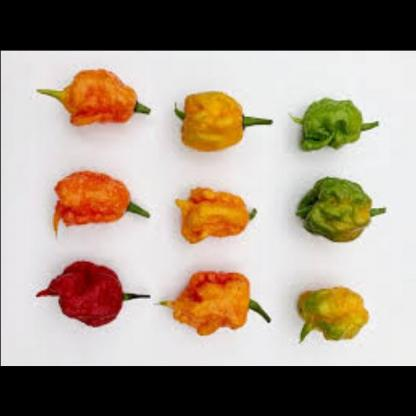hot pepper: (172, 66, 274, 161), (47, 56, 157, 140), (37, 260, 155, 338), (43, 162, 158, 242), (171, 266, 276, 339), (298, 171, 390, 249), (172, 174, 265, 242), (291, 274, 380, 344), (296, 92, 384, 156)
